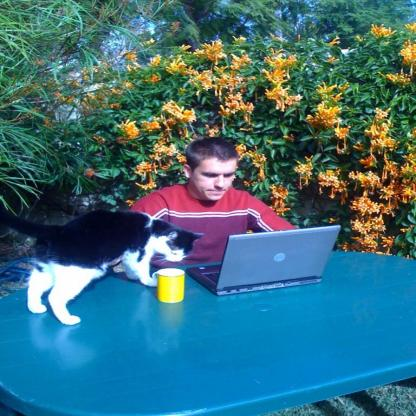board: (198, 223, 342, 297)
